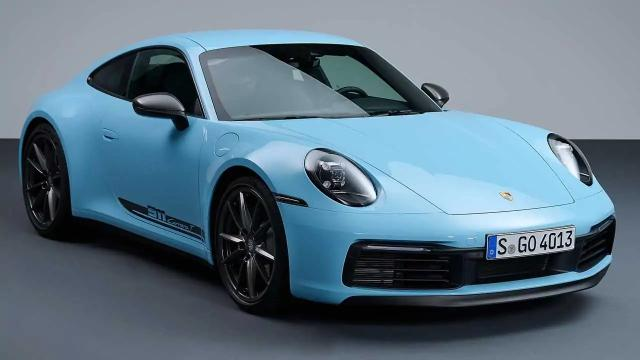porsche: (19, 27, 618, 312)
